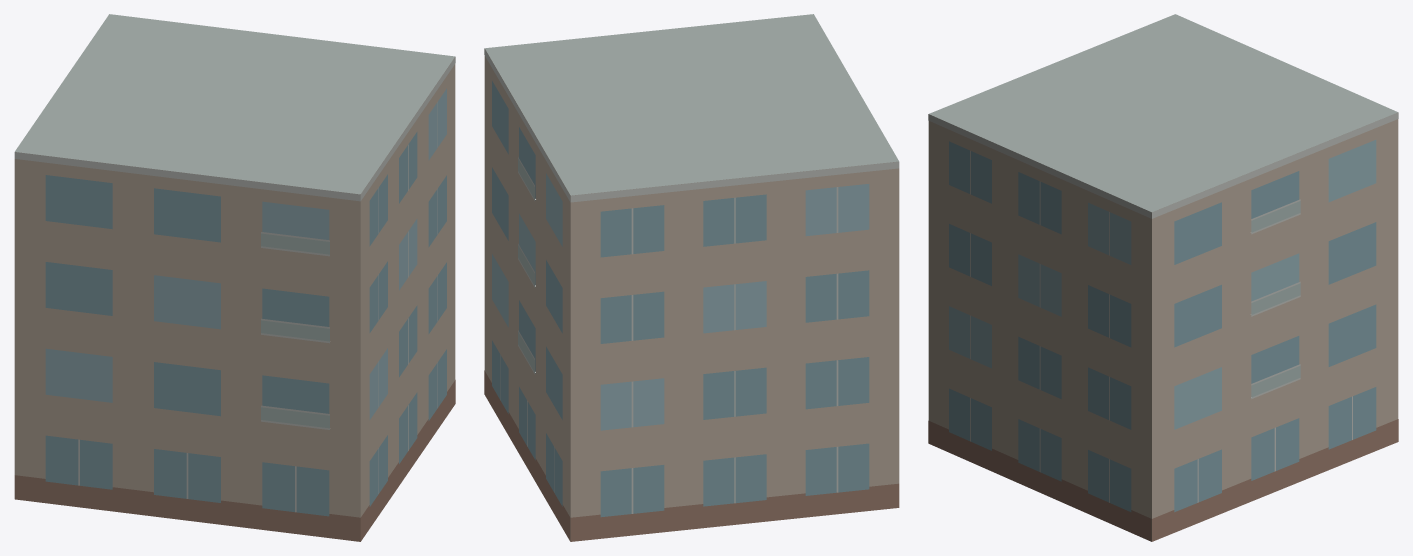
The model's file is residential-900b7902-aba0-45ee-bebb-47d718caf3c3.glb.
3 views of the same model, side by side, from view 1: azimuth 30°, elevation 25°; view 2: azimuth 150°, elevation 25°; view 3: azimuth 270°, elevation 25° (orthographic). The views are drawn at different scales.
Parts seen in each view (by area): view 1: residential-900b7902-aba0-45ee-bebb-47d718caf3c3.tmp; view 2: residential-900b7902-aba0-45ee-bebb-47d718caf3c3.tmp; view 3: residential-900b7902-aba0-45ee-bebb-47d718caf3c3.tmp.
Boxes of the visible parts, box(x1,y1,x2,y2) form: residential-900b7902-aba0-45ee-bebb-47d718caf3c3.tmp: box(14, 14, 455, 541); residential-900b7902-aba0-45ee-bebb-47d718caf3c3.tmp: box(484, 14, 899, 541); residential-900b7902-aba0-45ee-bebb-47d718caf3c3.tmp: box(928, 14, 1398, 541).
Bounding box in the file's own units: 15.75 × 12.2 × 15.77.
